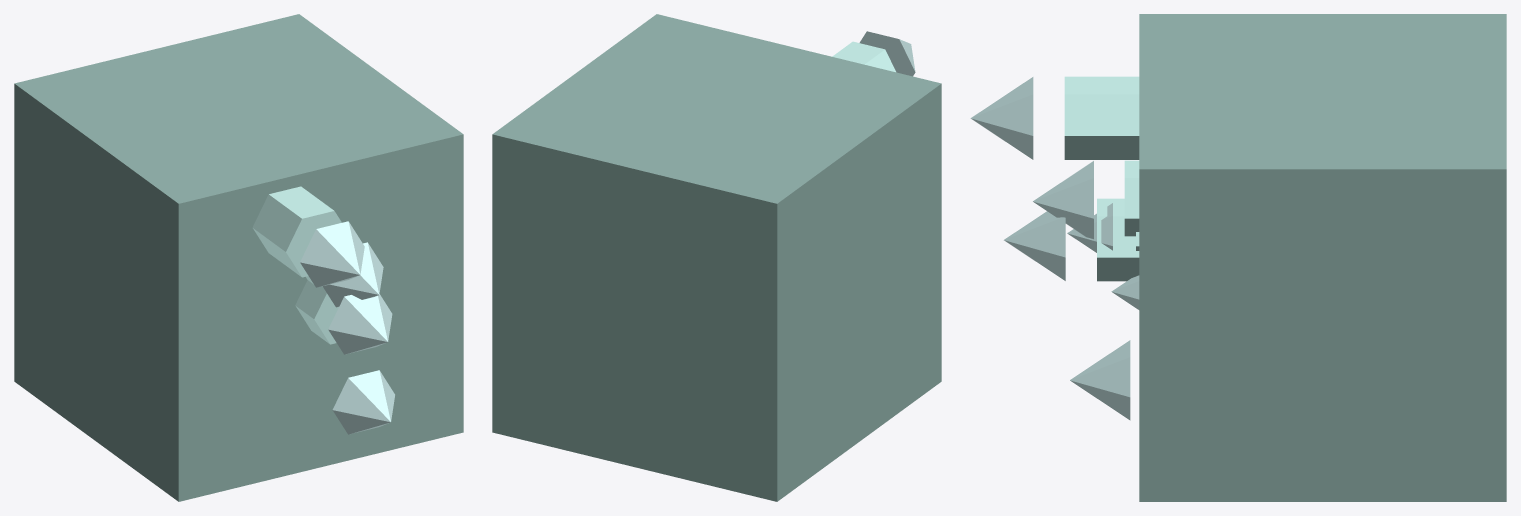
Rendered from 32_moonstone.glb.
3 renders of one model, left to right at view 1: azimuth 30°, elevation 25°; view 2: azimuth 150°, elevation 25°; view 3: azimuth 270°, elevation 25°, orthographic. The views are drawn at different scales.
Parts seen in each view (by area): view 1: RockShell, Ore_4_shaft, Ore_4_point, Ore_5_point, Ore_2_point, Ore_3_point, Ore_2_shaft; view 2: RockShell, Ore_4_point, Ore_4_shaft; view 3: RockShell, Ore_4_shaft, Ore_4_point, Ore_2_shaft, Ore_5_point, Ore_3_point, Ore_2_point, Ore_3_shaft, Ore_1_point.
Part boxes in pixels (left/top/right/bottom): RockShell: left=14, top=14, right=463, bottom=501; Ore_4_shaft: left=252, top=186, right=341, bottom=277; Ore_4_point: left=300, top=221, right=364, bottom=287; Ore_5_point: left=332, top=370, right=394, bottom=434; Ore_2_point: left=328, top=294, right=392, bottom=354; Ore_3_point: left=323, top=242, right=383, bottom=307; Ore_2_shaft: left=295, top=280, right=338, bottom=344; RockShell: left=492, top=14, right=941, bottom=501; Ore_4_point: left=859, top=31, right=915, bottom=76; Ore_4_shaft: left=832, top=41, right=895, bottom=72; RockShell: left=1139, top=14, right=1506, bottom=501; Ore_4_shaft: left=1064, top=76, right=1139, bottom=159; Ore_4_point: left=970, top=77, right=1033, bottom=159; Ore_2_shaft: left=1097, top=198, right=1139, bottom=281; Ore_5_point: left=1070, top=340, right=1130, bottom=420; Ore_3_point: left=1033, top=161, right=1093, bottom=239; Ore_2_point: left=1004, top=211, right=1065, bottom=280; Ore_3_shaft: left=1124, top=160, right=1139, bottom=236; Ore_1_point: left=1067, top=203, right=1112, bottom=252.
Size of the model in its own units: 1.02 by 1.02 by 1.49.
